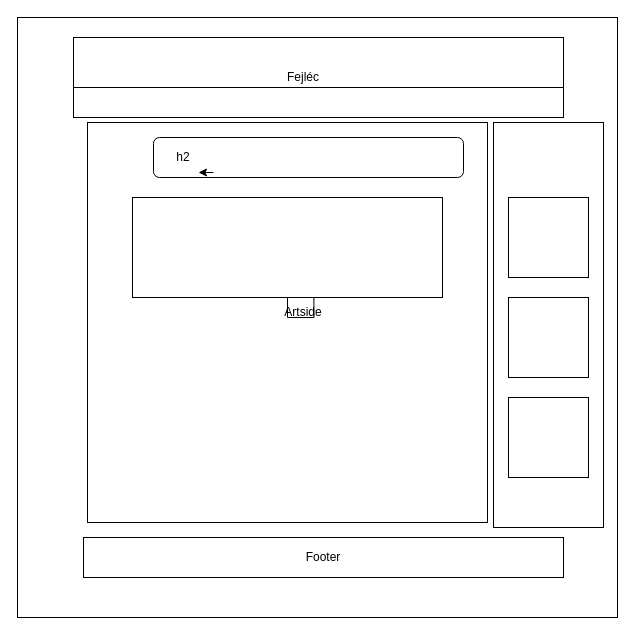
The diagram is 635 pixels wide and 635 high, and some of its shapes have lost their labels. The centre of each missing label's shape, as x and y in pixels:
"Leírás" belongs at [287,247].
"Nav" belongs at [318,102].
